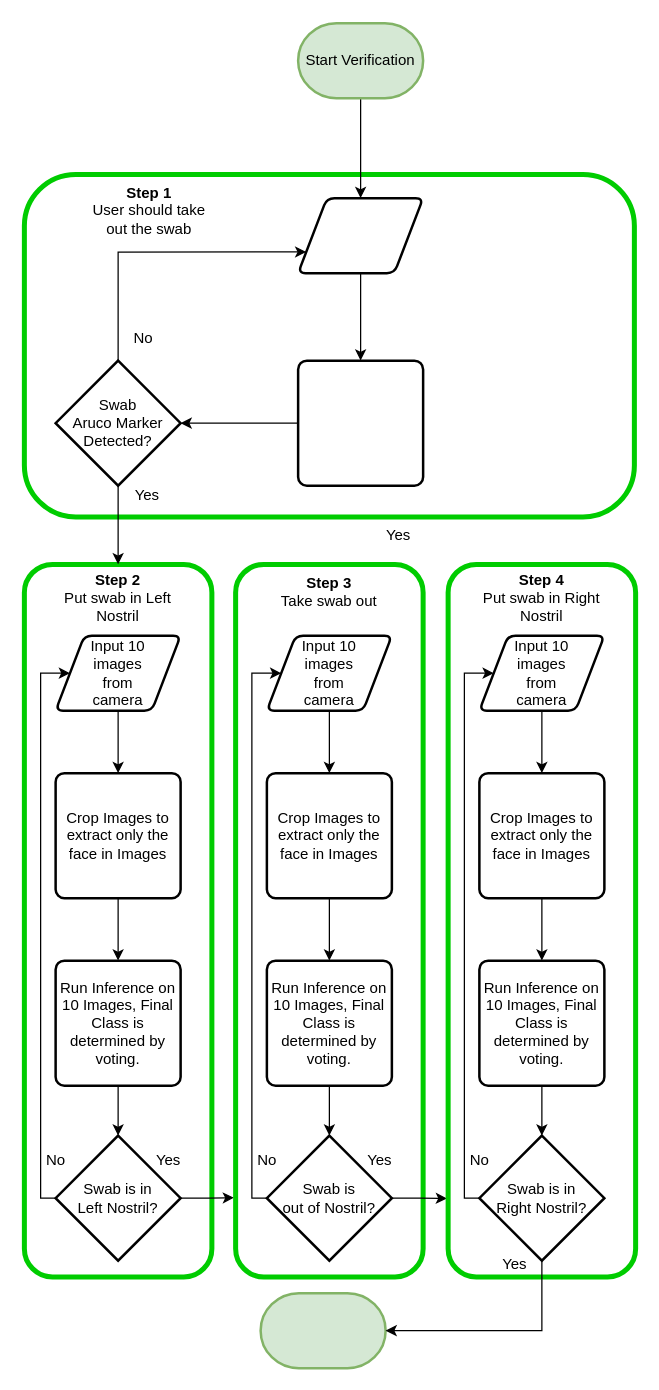
Some shapes in this 659 by 1390 pixel diagram are drawn without their labels. The centre of each missing label's shape, as x and y in pixels:
End Verification: [322,1330]
Input images from camera: [360,235]
Run Aruco Marker Detector: [360,422]
